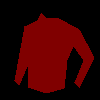abbigliamento_uomo: (14, 12, 94, 93)
